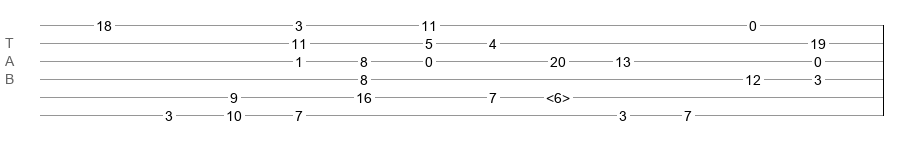0: (425, 54, 433, 64), (749, 18, 757, 28), (814, 54, 822, 64)
1: (295, 54, 303, 64)
10: (226, 108, 242, 118)
11: (291, 36, 307, 46), (421, 18, 437, 28)
12: (745, 72, 761, 82)
13: (615, 54, 631, 64)
16: (356, 90, 372, 100)
18: (96, 18, 112, 28)
19: (810, 36, 826, 46)
20: (550, 54, 566, 64)
3: (165, 108, 173, 118), (295, 18, 303, 28), (619, 108, 627, 118), (814, 72, 822, 82)
4: (489, 36, 497, 46)
5: (425, 36, 433, 46)
7: (295, 108, 303, 118), (489, 90, 497, 100), (684, 108, 692, 118)
8: (360, 72, 368, 82), (360, 54, 368, 64)
9: (230, 90, 238, 100)
harmonic: (546, 90, 570, 100)
